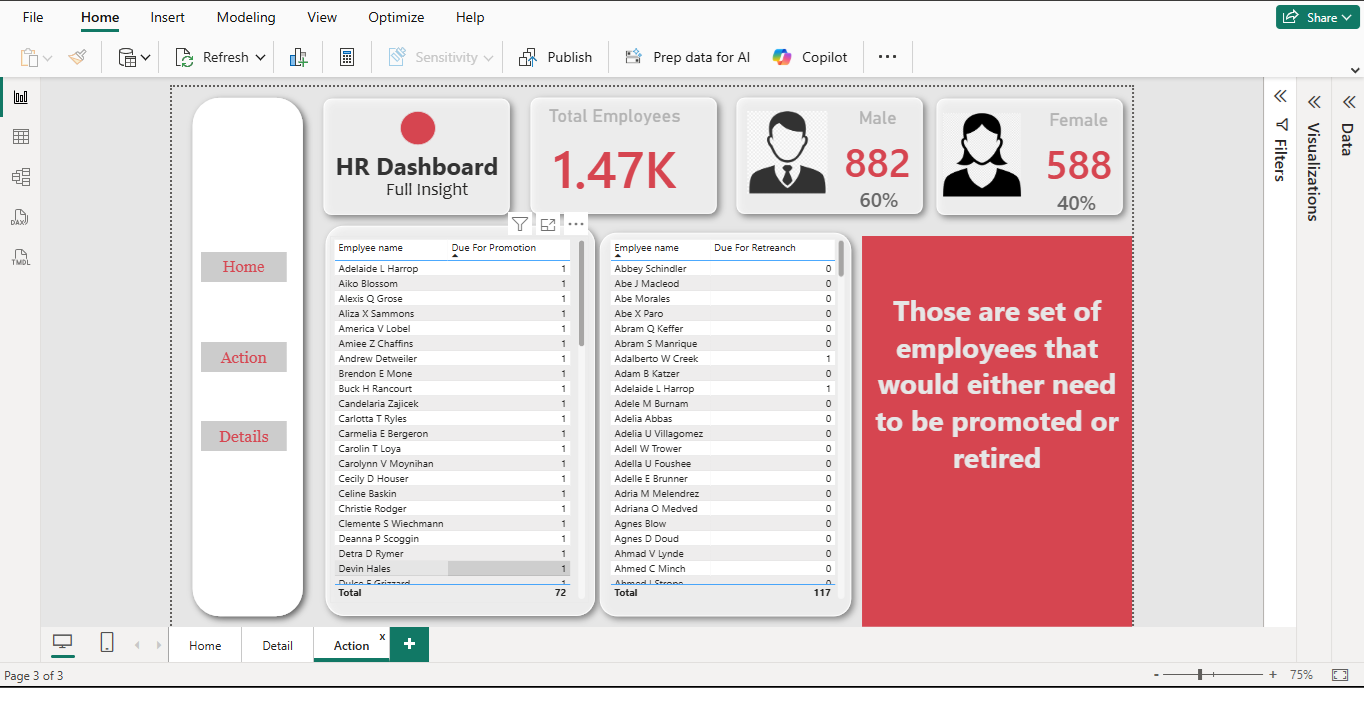

This screenshot's page, from the dashboard's own definition file:
{"tool":"powerbi","page":{"name":" Action","canvas":[1280,720],"ordinal":2},"visuals":[{"type":"shape","box":[188.3,1.7,276.3,183.3],"z":0},{"type":"shape","box":[463.3,0,276.3,183.3],"z":1000},{"type":"shape","box":[738.3,0,276.3,183.3],"z":2000},{"type":"shape","box":[1004.7,1.8,276.3,183.3],"z":3000},{"type":"shape","box":[303.3,31.7,47.8,45.6],"z":4000},{"type":"textbox","box":[211.7,76.7,228.9,54.4],"z":5000},{"type":"textbox","box":[230.4,116.3,218.9,43.3],"z":6000},{"type":"cardVisual","title":"Total Employees","fields":{"Data":["Table.Totale Emp"]},"box":[466.7,23.3,247.1,124.3],"z":7000},{"type":"cardVisual","title":"Male","fields":{"Data":["Table.Male"]},"box":[877.1,27.1,127.1,100],"z":8000},{"type":"cardVisual","title":"Total Employees","fields":{"Data":["Table.%Male"]},"box":[881.7,115,123.3,65],"z":9000},{"type":"cardVisual","title":"Female","fields":{"Data":["Table.Female"]},"box":[1145.7,30,127.1,100],"z":10000},{"type":"cardVisual","title":"Total Employees","fields":{"Data":["Table.%Female"]},"box":[1155,118.3,103.3,65],"z":11000},{"type":"image","box":[740,31.4,161.4,110],"z":12000},{"type":"image","box":[1028.6,31.4,104.3,117.1],"z":13000},{"type":"shape","box":[191.2,171.2,387.5,548.8],"z":14000},{"type":"tableEx","fields":{"Values":["HR Analytics Data.Emplyee name","Table.Due"]},"box":[211.2,198.8,345,488.8],"z":15000},{"type":"shape","box":[556.2,180,363.8,540],"z":16000},{"type":"tableEx","fields":{"Values":["HR Analytics Data.Emplyee name","Table.Due For Retreanch"]},"box":[578.6,198.6,322.9,488.6],"z":17000},{"type":"textbox","box":[920,198.6,360,521.4],"z":18000},{"type":"shape","box":[13.3,0,175.4,720],"z":19000},{"type":"actionButton","box":[38.6,220,114.3,40],"z":20000},{"type":"actionButton","box":[38.6,340,114.3,40],"z":21000},{"type":"actionButton","box":[38.6,445.7,114.3,40],"z":22000}]}

Visuals, with their boxes on the page's 1280x720 design canvas (x1, y1, x2, y2). These are canvas units, not pixel positions in the 1364x701 screenshot, which may show the page scaled, cropped or inside an application window:
shape: left=188, top=2, right=465, bottom=185
shape: left=463, top=0, right=740, bottom=183
shape: left=738, top=0, right=1015, bottom=183
shape: left=1005, top=2, right=1281, bottom=185
shape: left=303, top=32, right=351, bottom=77
textbox: left=212, top=77, right=441, bottom=131
textbox: left=230, top=116, right=449, bottom=160
"Total Employees" cardVisual: left=467, top=23, right=714, bottom=148
"Male" cardVisual: left=877, top=27, right=1004, bottom=127
"Total Employees" cardVisual: left=882, top=115, right=1005, bottom=180
"Female" cardVisual: left=1146, top=30, right=1273, bottom=130
"Total Employees" cardVisual: left=1155, top=118, right=1258, bottom=183
image: left=740, top=31, right=901, bottom=141
image: left=1029, top=31, right=1133, bottom=148
shape: left=191, top=171, right=579, bottom=720
tableEx - HR Analytics Data.Emplyee name x Table.Due: left=211, top=199, right=556, bottom=688
shape: left=556, top=180, right=920, bottom=720
tableEx - HR Analytics Data.Emplyee name x Table.Due For Retreanch: left=579, top=199, right=902, bottom=687
textbox: left=920, top=199, right=1280, bottom=720
shape: left=13, top=0, right=189, bottom=720
actionButton: left=39, top=220, right=153, bottom=260
actionButton: left=39, top=340, right=153, bottom=380
actionButton: left=39, top=446, right=153, bottom=486
